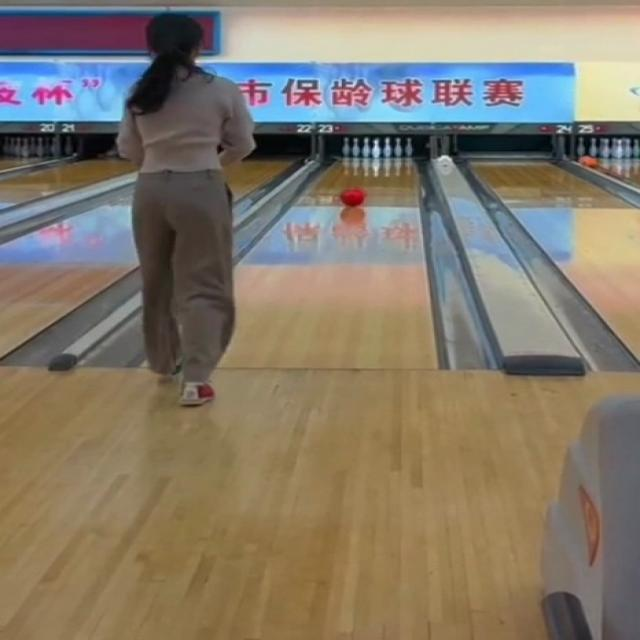alley: (222, 160, 435, 367)
balls: (341, 190, 363, 205)
bottle: (339, 135, 412, 158)
